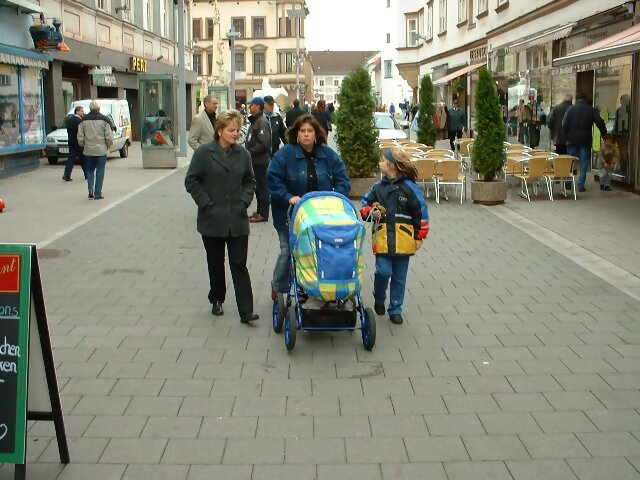person: (186, 110, 269, 330), (364, 147, 432, 325), (265, 114, 348, 215)
